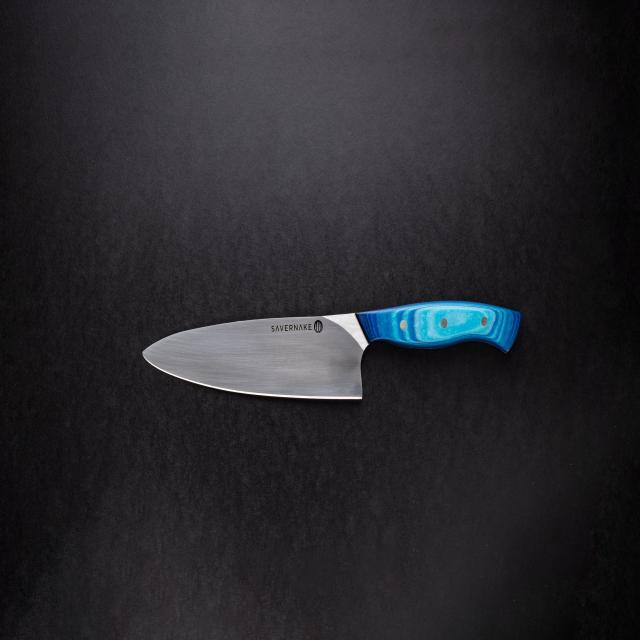Metal: (141, 312, 366, 407)
